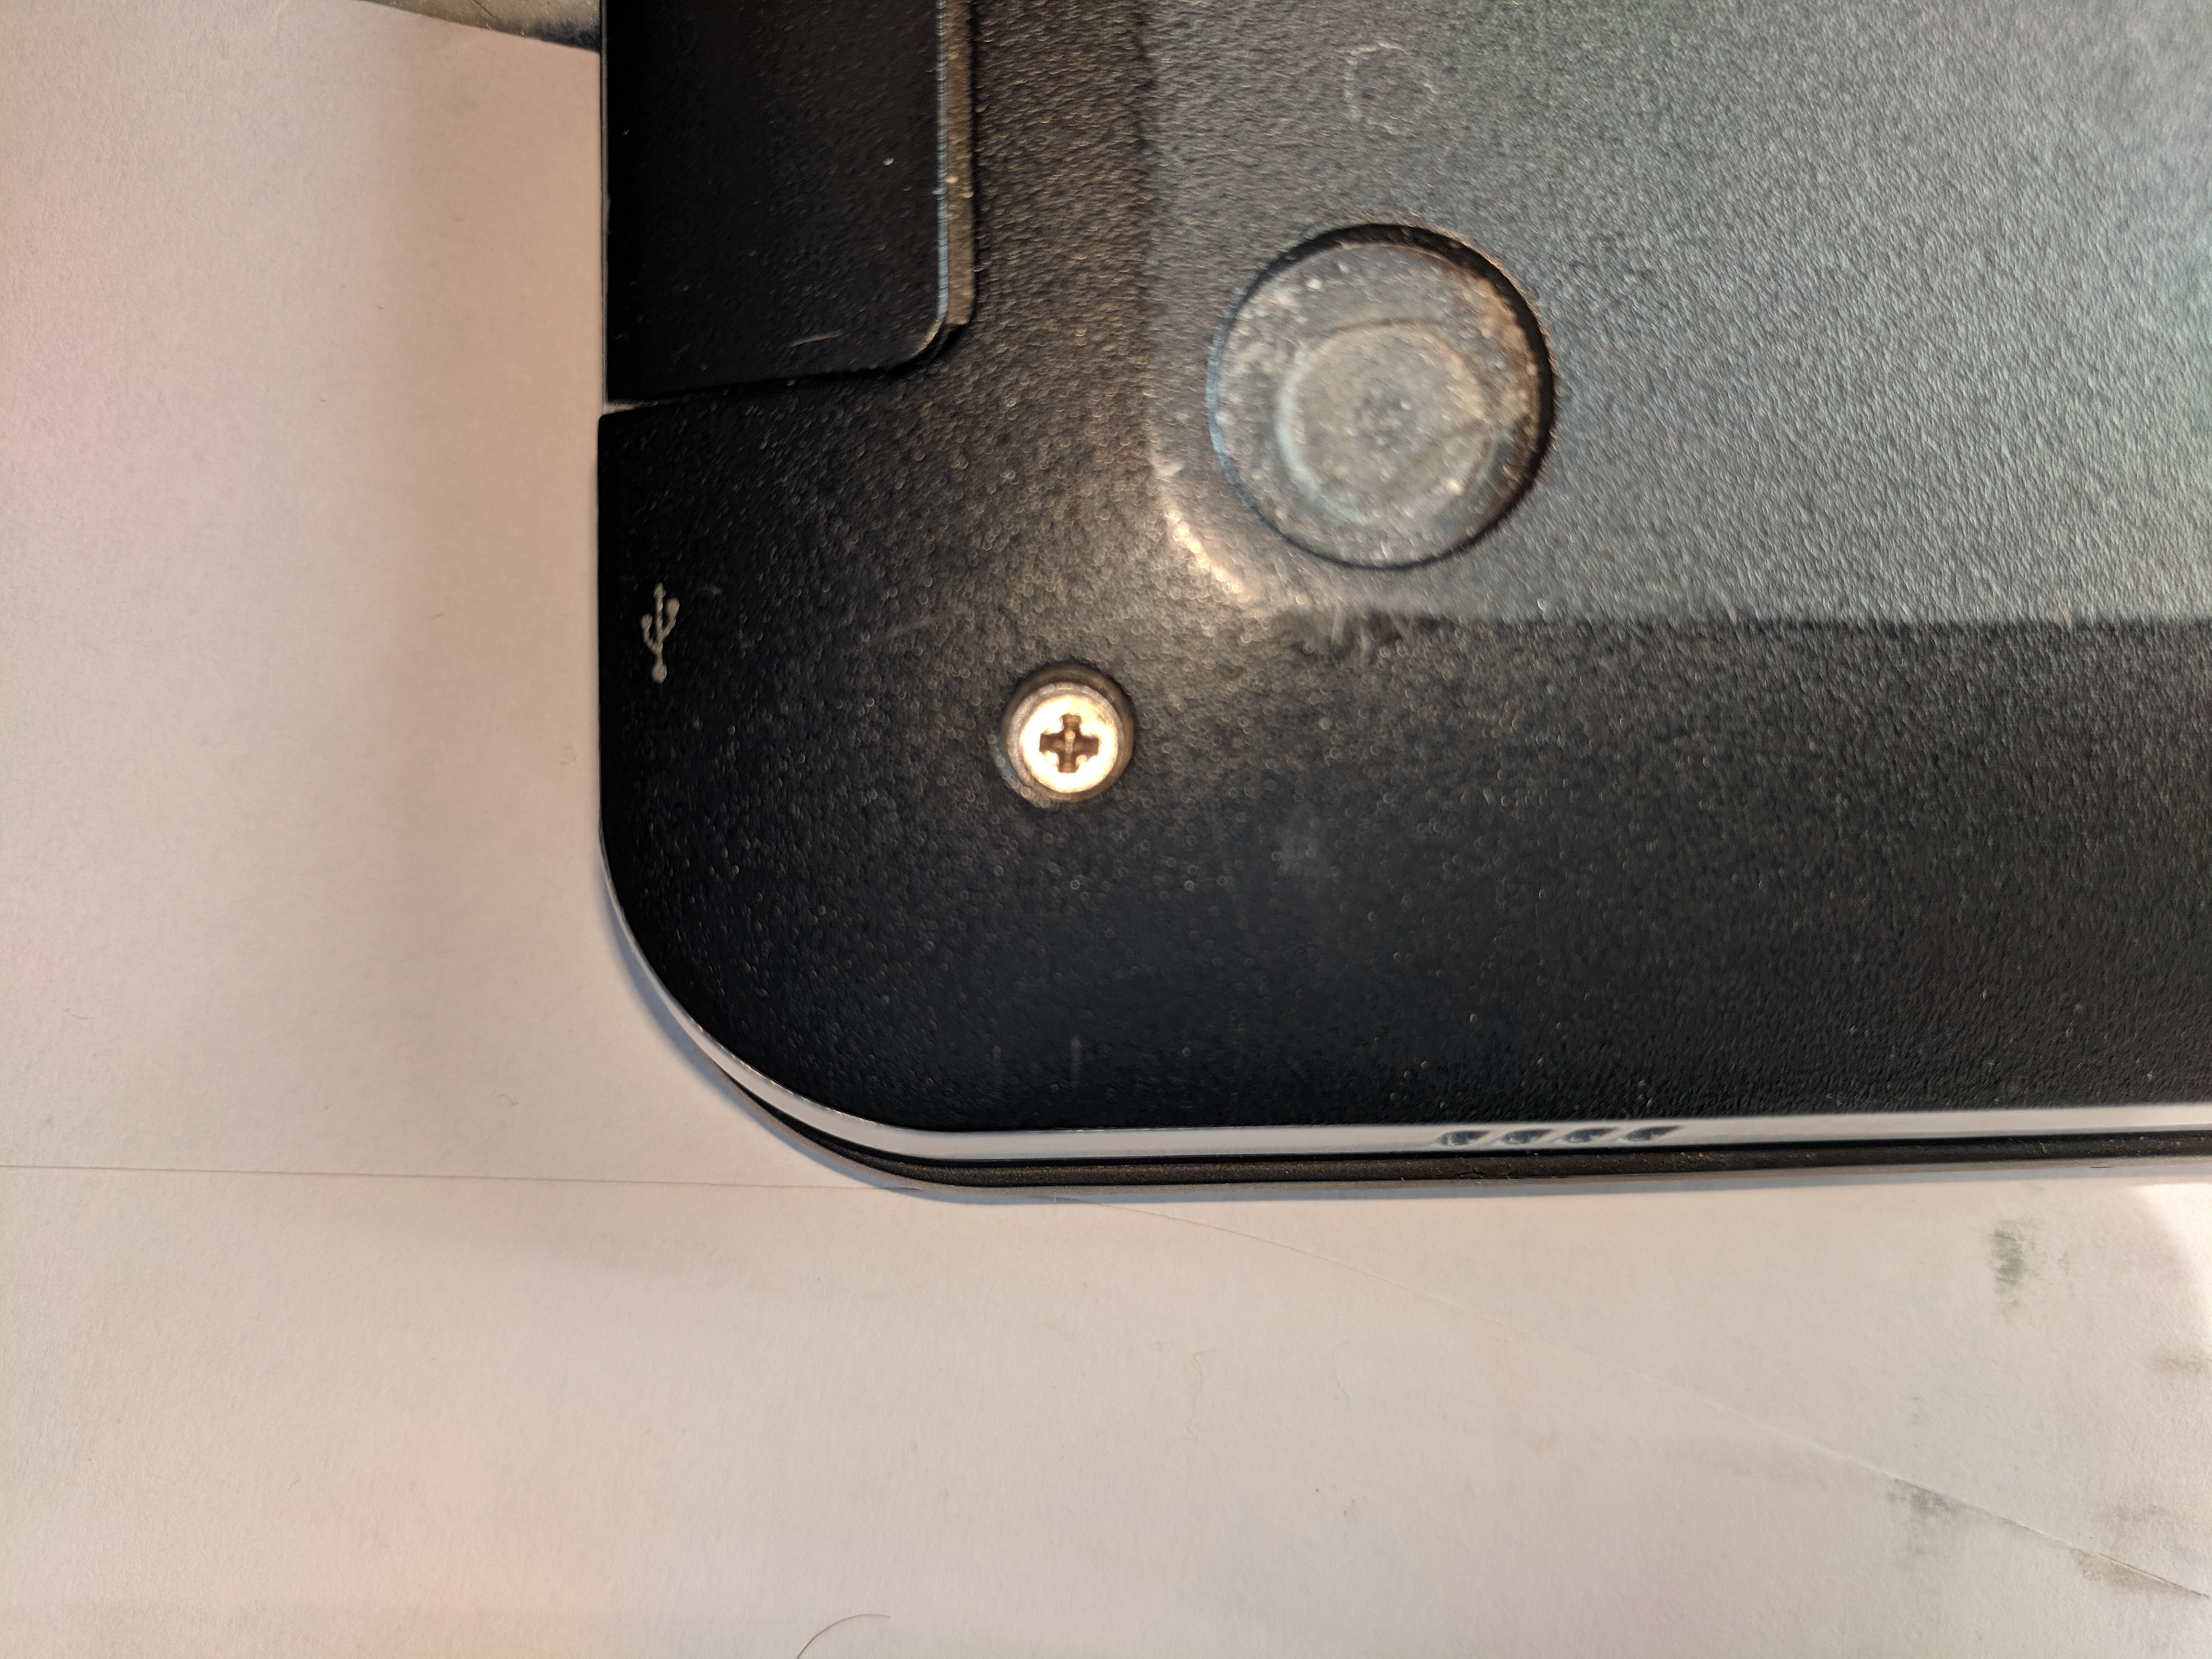cross_recessed_screw: (982, 657, 1144, 805)
